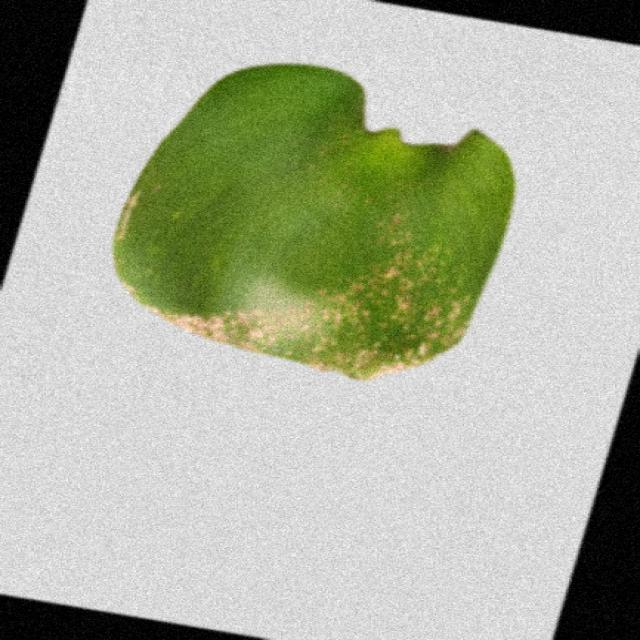daun berpenyakit bercak: (115, 65, 515, 378)
